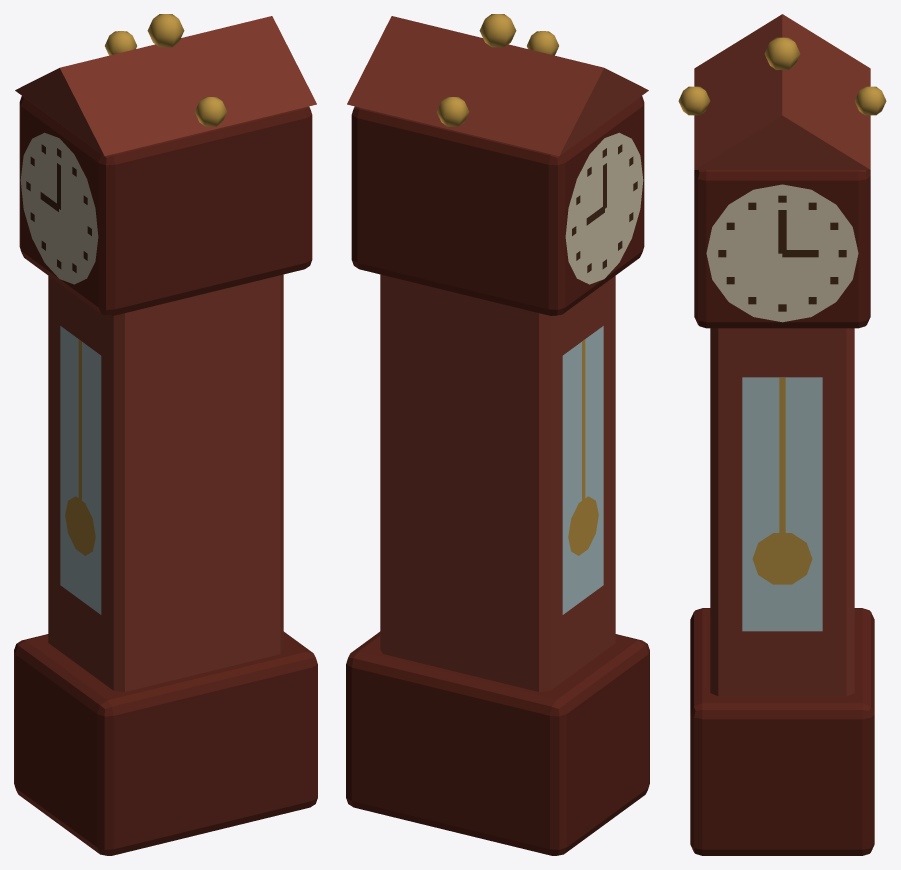
File: library-prop3.glb
The picture shows the model from 3 angles, left to right: view 1: azimuth 30°, elevation 25°; view 2: azimuth 150°, elevation 25°; view 3: azimuth 270°, elevation 25°; orthographic projection. The views are drawn at different scales.
Visible parts, largest first — view 1: library-prop3; view 2: library-prop3; view 3: library-prop3.
Part boxes in pixels (x1,y1,x2,y2): library-prop3: (14,14,317,855); library-prop3: (346,14,649,855); library-prop3: (678,14,886,855).
Bounding box in the file's own units: 0.62 × 2.12 × 0.52.
